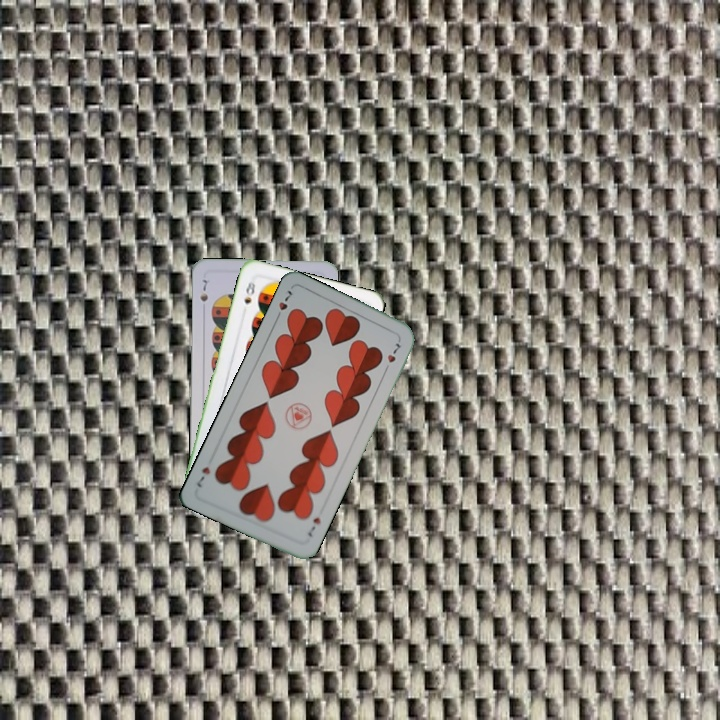H7: (271, 286, 296, 323), (304, 513, 323, 539)
S7: (196, 275, 211, 304)
S8: (240, 277, 258, 307)
